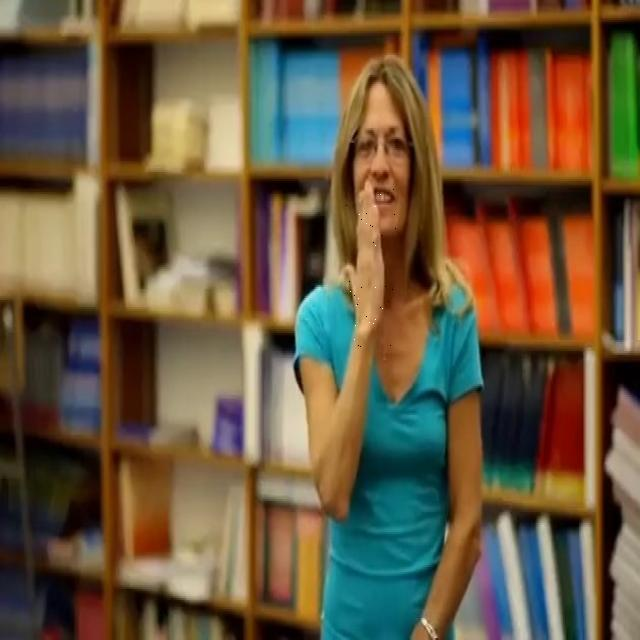napkin: (346, 186, 398, 348)
